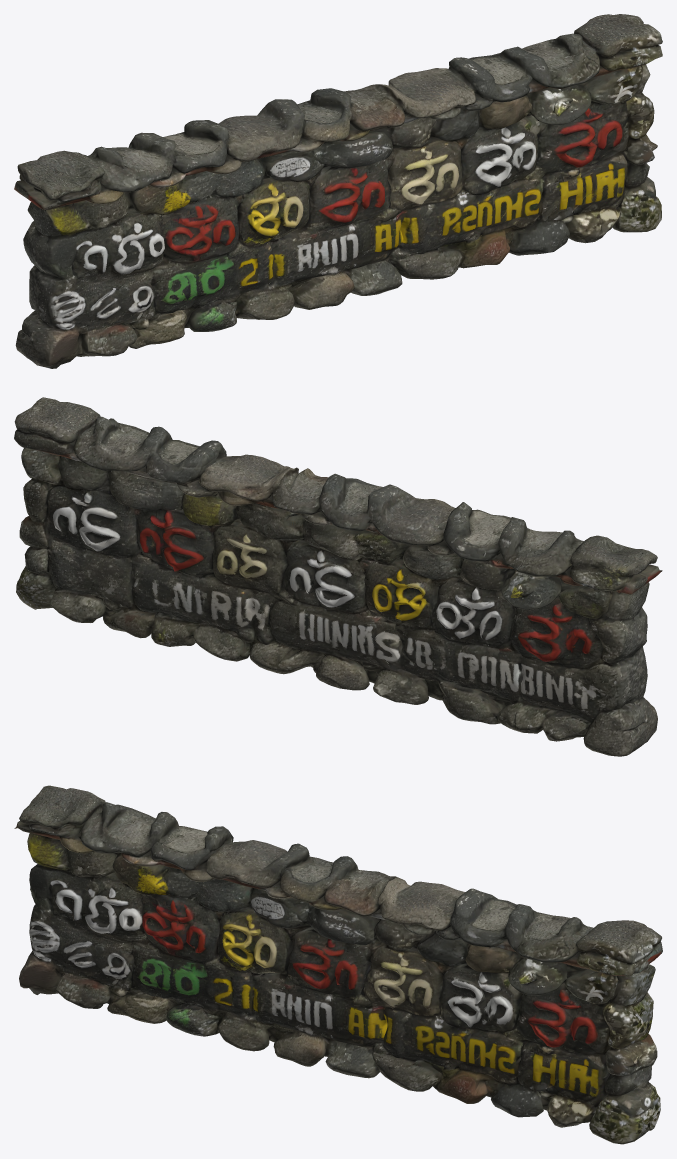
Rendered from mani_wall.glb.
3 renders of one model, top to bottom at view 1: azimuth 30°, elevation 25°; view 2: azimuth 150°, elevation 25°; view 3: azimuth 330°, elevation 25°, orthographic.
Parts seen in each view (by area): view 1: tripo_node_1a9292cd-bdc7-4564-9f49-a372578d6ca8; view 2: tripo_node_1a9292cd-bdc7-4564-9f49-a372578d6ca8; view 3: tripo_node_1a9292cd-bdc7-4564-9f49-a372578d6ca8.
Boxes of the visible parts, bbox=[...] form: tripo_node_1a9292cd-bdc7-4564-9f49-a372578d6ca8: bbox=[14, 14, 662, 368]; tripo_node_1a9292cd-bdc7-4564-9f49-a372578d6ca8: bbox=[14, 397, 662, 756]; tripo_node_1a9292cd-bdc7-4564-9f49-a372578d6ca8: bbox=[14, 785, 662, 1144].
Bounding box in the file's own units: 2.63 × 0.8 × 0.3192.
Materials: 1 (1 with a texture image).
